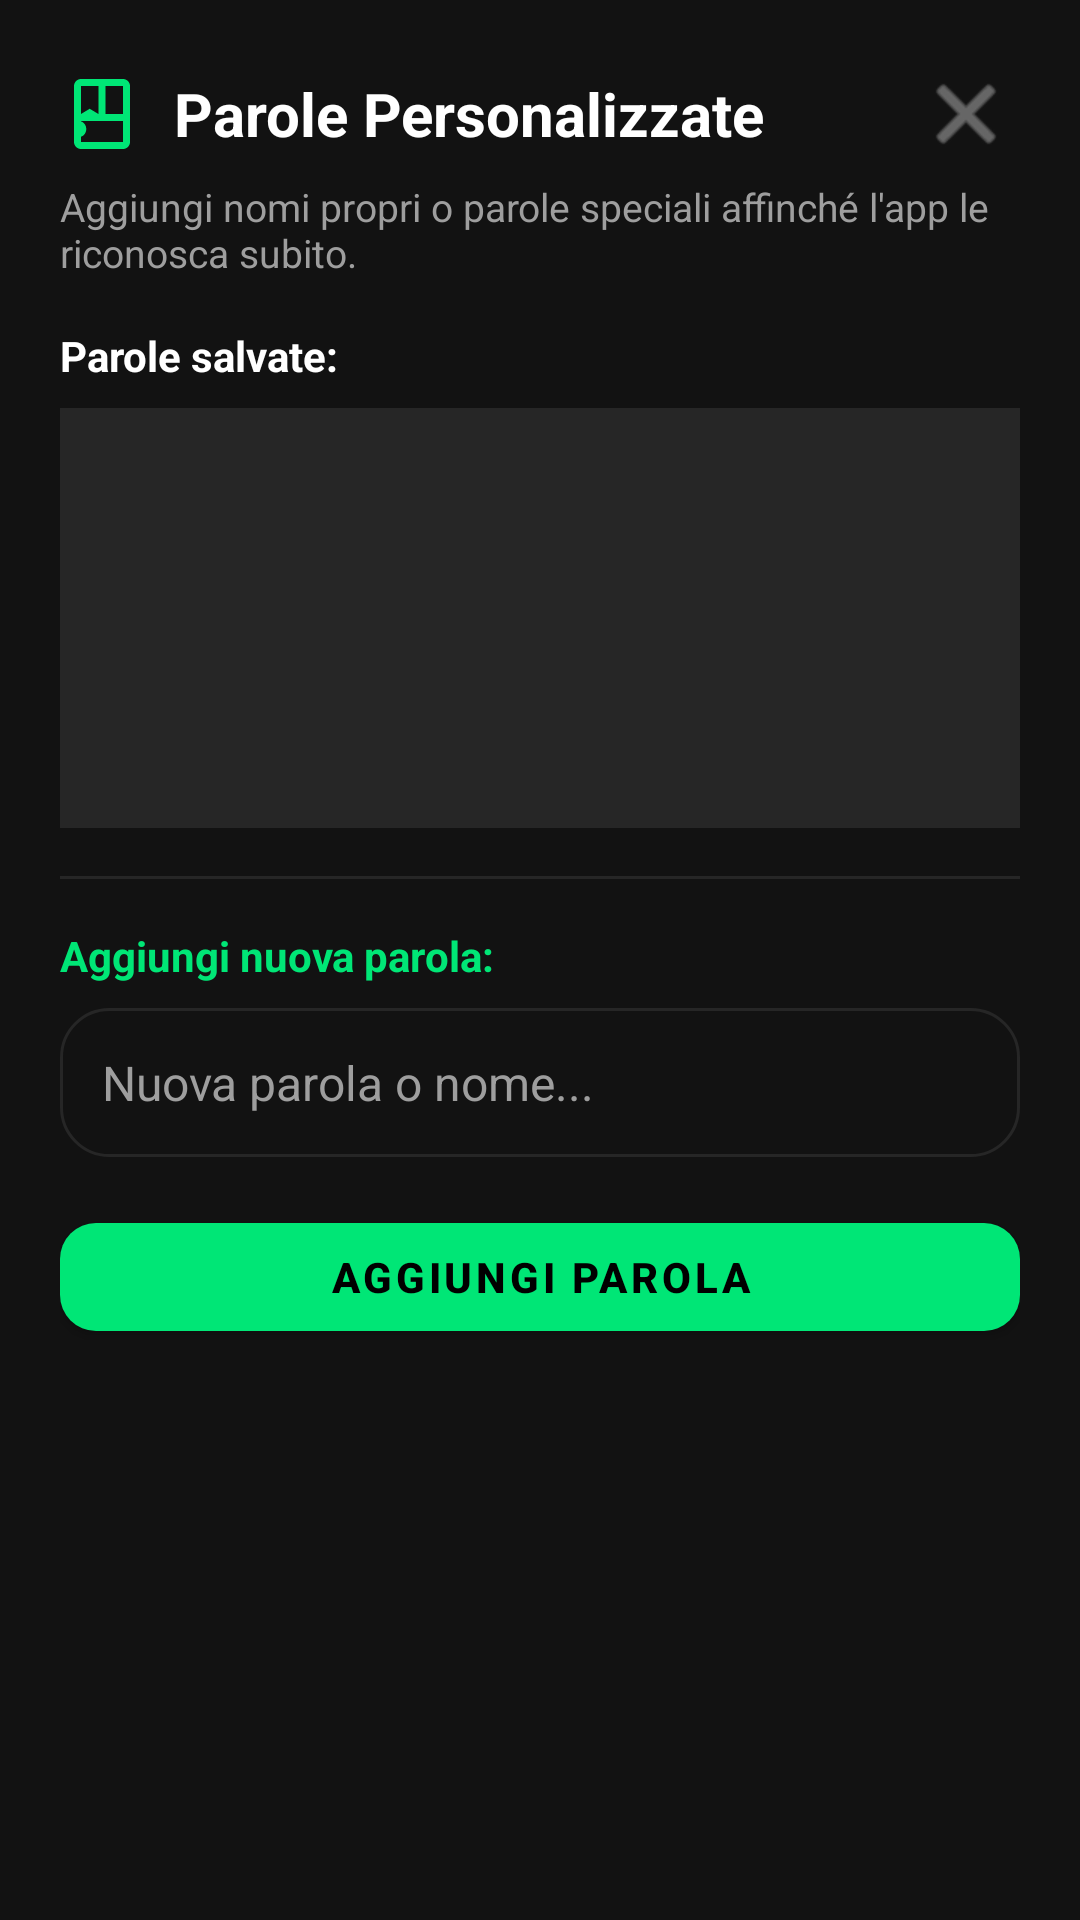

Icon bounding boxes for this 1080 x 1920 phone screenshot, format (x1, y1, x2, y2):
close clear cancel: (936, 84, 996, 144)
